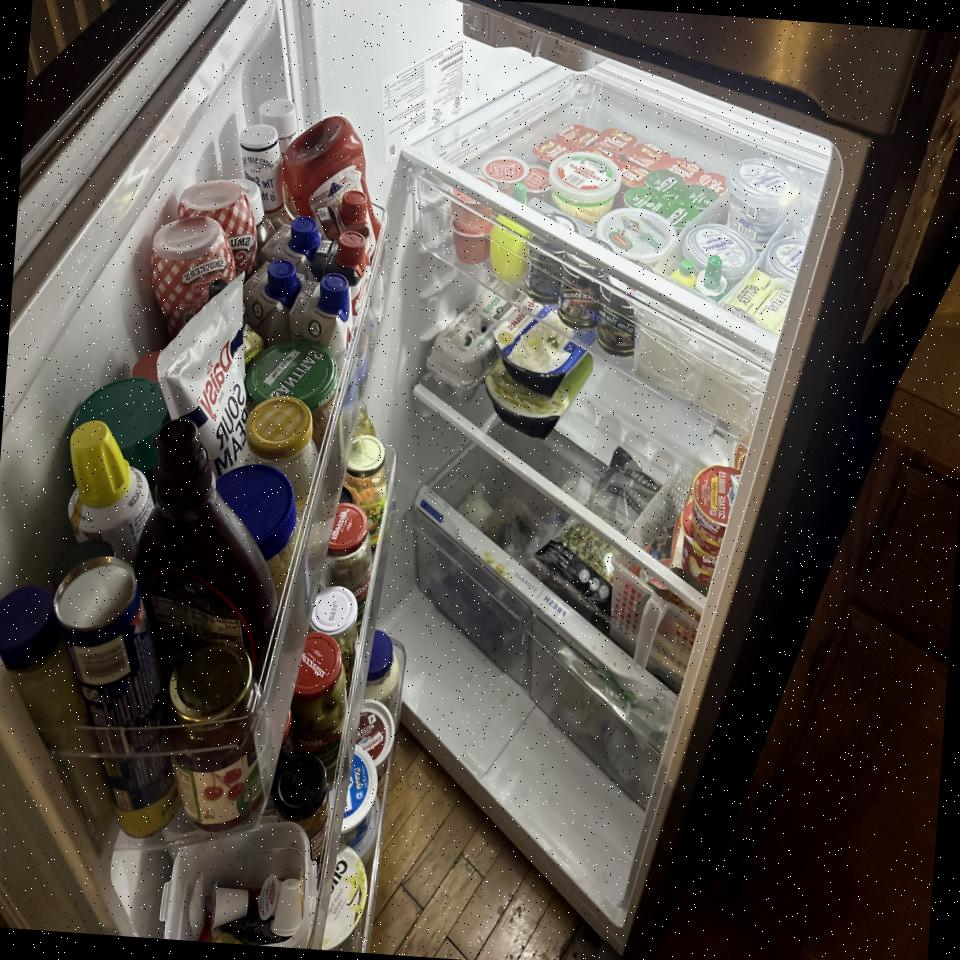Huevos: (424, 285, 517, 403)
ketchup: (276, 112, 392, 260)
mayonnaise: (362, 628, 404, 714)
